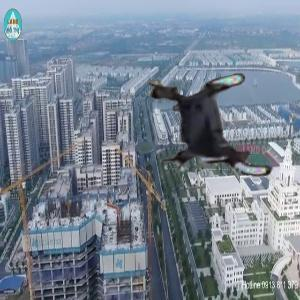drone: (143, 62, 277, 196)
